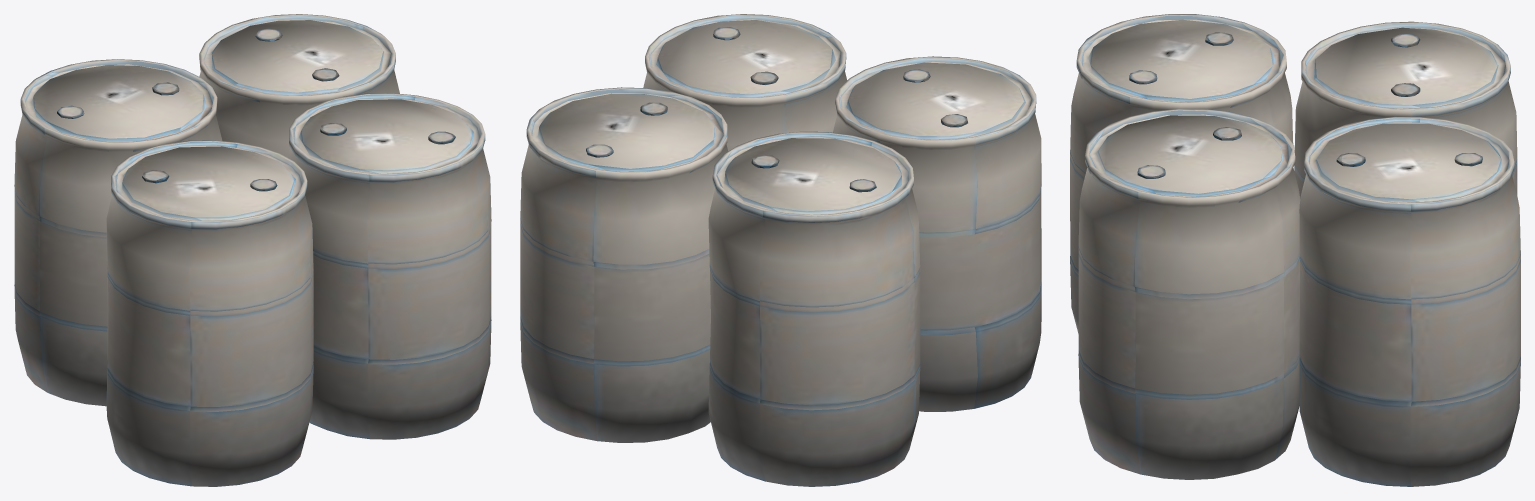
File: drums.glb
The picture shows the model from 3 angles, left to right: view 1: azimuth 30°, elevation 25°; view 2: azimuth 150°, elevation 25°; view 3: azimuth 270°, elevation 25°; orthographic projection. The views are drawn at different scales.
Visible parts, largest first — view 1: Plastic_barrel_Pile1; view 2: Plastic_barrel_Pile1; view 3: Plastic_barrel_Pile1.
Boxes of the visible parts, <box> form: Plastic_barrel_Pile1: <box>14,14,491,486</box>; Plastic_barrel_Pile1: <box>520,14,1041,486</box>; Plastic_barrel_Pile1: <box>1070,14,1520,486</box>.
Bounding box in the file's own units: 1.39 × 0.9497 × 1.35.
Materials: 1 (1 with a texture image).
